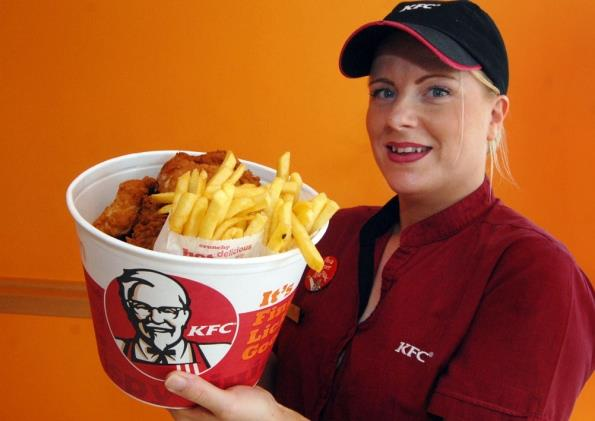KFC: (97, 265, 226, 387)
